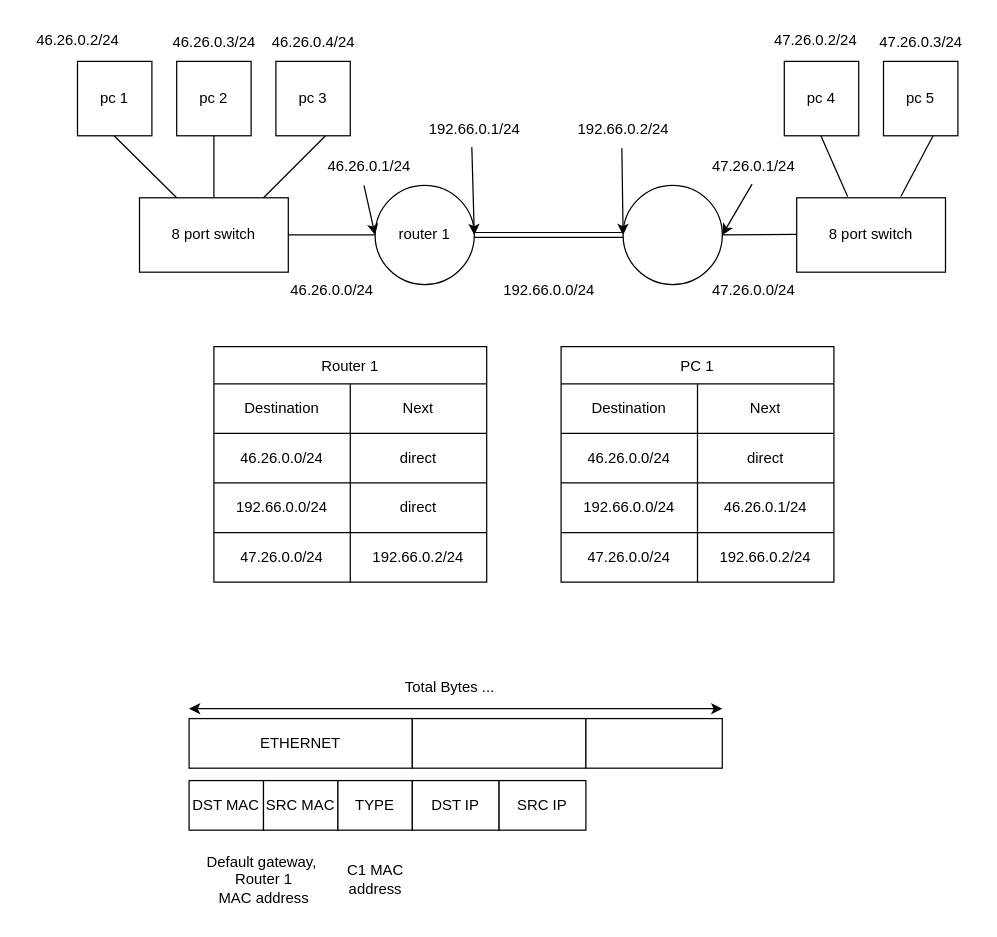
Some shapes in this 997 by 937 pixel diagram are drawn without their labels. The shapes that lost their labels are listed below. From the top down, each one's box as (x1, y1, x2, y2) in pixels, then its label:
(622, 184, 722, 285): router 2
(411, 717, 586, 768): IPV4
(585, 717, 722, 768): ICMP
